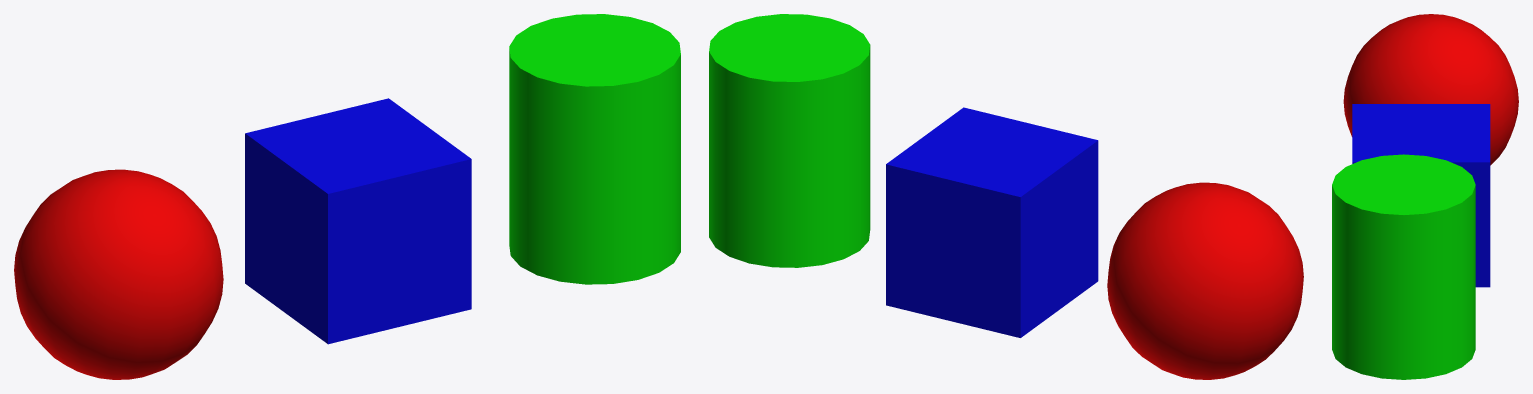
The model's file is udim_demo.fbx.
3 views of the same model, side by side, from view 1: azimuth 30°, elevation 25°; view 2: azimuth 150°, elevation 25°; view 3: azimuth 270°, elevation 25° (orthographic). The views are drawn at different scales.
Parts seen in each view (by area): view 1: pCube1, pCylinder1, pSphere1; view 2: pCube1, pCylinder1, pSphere1; view 3: pCylinder1, pSphere1, pCube1.
Boxes of the visible parts, <box> form: pCube1: <box>245,98,471,344</box>; pCylinder1: <box>509,14,680,284</box>; pSphere1: <box>14,169,223,379</box>; pCube1: <box>886,107,1098,337</box>; pCylinder1: <box>709,14,870,267</box>; pSphere1: <box>1107,182,1303,379</box>; pCylinder1: <box>1332,154,1475,379</box>; pSphere1: <box>1343,14,1518,165</box>; pCube1: <box>1352,104,1490,287</box>.
Size of the model in its own units: 34.84 by 11.7 by 10.83.
